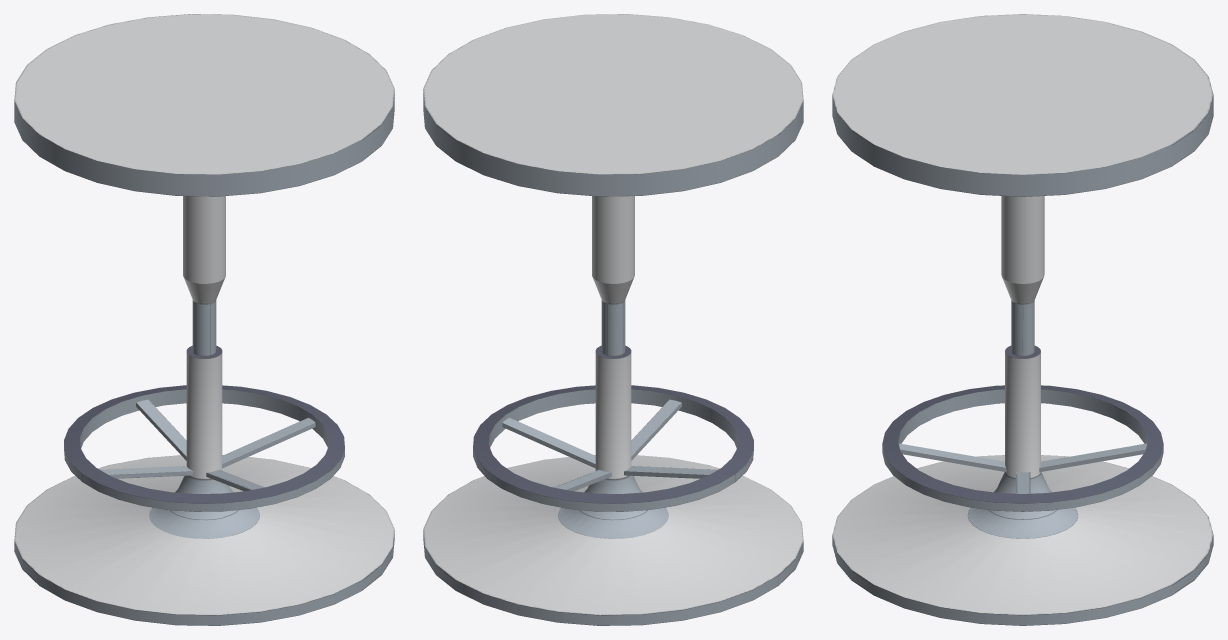
File: Table_02.FBX
The picture shows the model from 3 angles, left to right: view 1: azimuth 30°, elevation 25°; view 2: azimuth 150°, elevation 25°; view 3: azimuth 270°, elevation 25°; orthographic projection.
Visible parts, largest first — view 1: Table_02; view 2: Table_02; view 3: Table_02.
Part boxes in pixels (box(x1,y1,x2,y2)): Table_02: box(14, 14, 394, 625); Table_02: box(423, 14, 803, 625); Table_02: box(832, 14, 1213, 625).
Size of the model in its own units: 0.9573 by 1.25 by 0.9573.
Materials: 1 (1 with a texture image).
